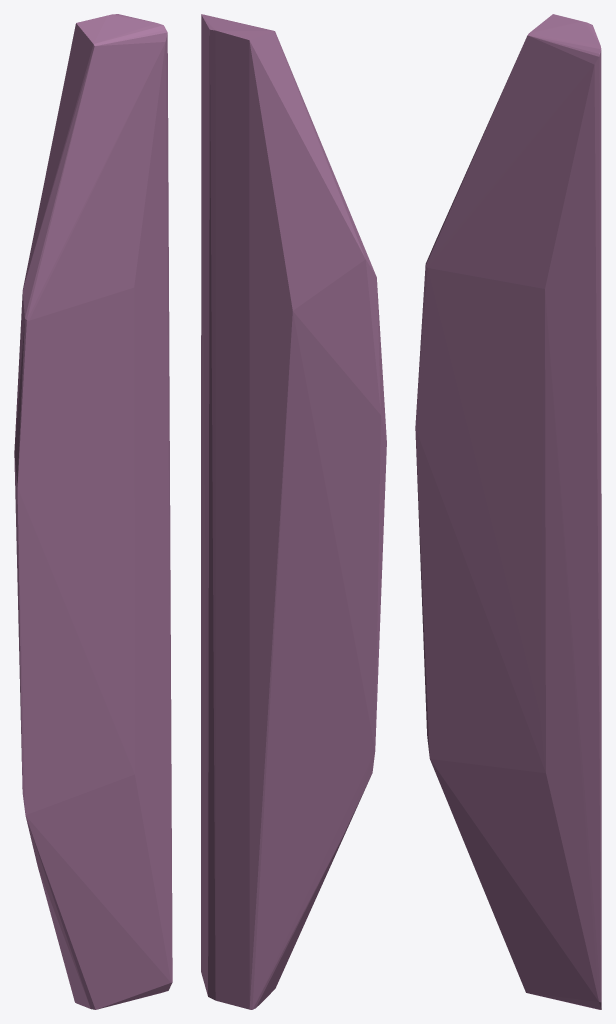
The model's file is bodyPart_spoiler_b01.glb.
3 views of the same model, side by side, from view 1: azimuth 30°, elevation 25°; view 2: azimuth 150°, elevation 25°; view 3: azimuth 330°, elevation 25° (orthographic).
Parts seen in each view (by area): view 1: geometry_0; view 2: geometry_0; view 3: geometry_0.
Part boxes in pixels (x1,y1,x2,y2): geometry_0: (14,14,172,1009); geometry_0: (201,14,386,1009); geometry_0: (415,14,601,1009).
Size of the model in its own units: 0.0878 by 0.4797 by 0.0356.
